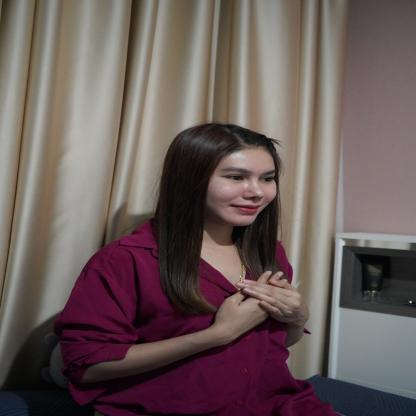Grieve: (182, 265, 327, 351)
